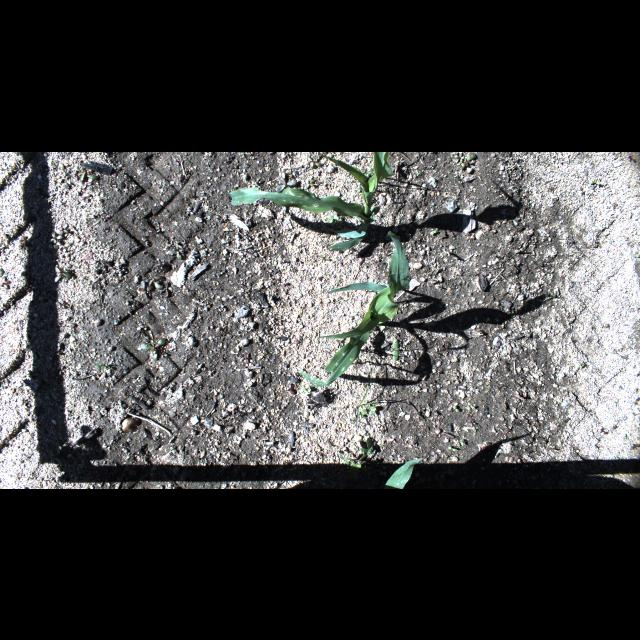crop: (297, 229, 409, 385), (229, 152, 395, 250), (383, 456, 423, 488)
weed: (356, 364, 376, 428), (343, 456, 365, 476), (146, 338, 166, 358), (360, 400, 378, 416), (456, 154, 476, 168), (360, 437, 372, 459), (53, 267, 73, 279), (276, 177, 296, 189), (155, 282, 171, 296), (391, 340, 401, 360), (78, 170, 99, 178), (308, 154, 322, 166), (326, 214, 344, 222), (588, 178, 602, 188), (300, 384, 308, 398), (304, 178, 316, 186), (319, 254, 331, 260), (95, 364, 106, 370), (459, 438, 465, 448), (551, 288, 557, 298), (449, 446, 457, 452), (472, 425, 478, 433), (453, 404, 459, 412), (58, 442, 68, 446), (579, 363, 585, 369), (432, 228, 438, 234), (526, 200, 530, 208), (466, 406, 476, 409), (614, 399, 618, 405), (2, 268, 4, 274)
